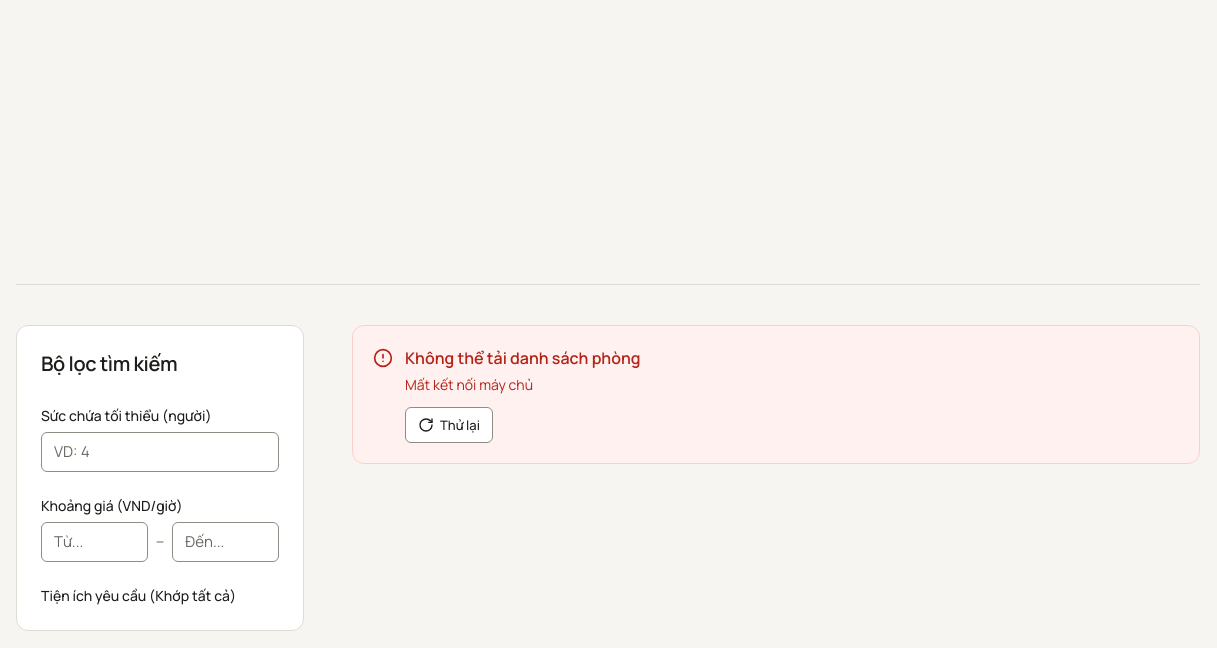
Test: UI Polish: Loading, Error, Empty States & Responsive UX (CWB-35) › Friendly Error States & Retry › RoomsPage displays friendly error with retry button on network failure
Expected: the text "Không thể tải danh sách phòng" is shown, [405, 347, 640, 369]
Click the button "Thử lại": [449, 425] box [405, 407, 493, 443]
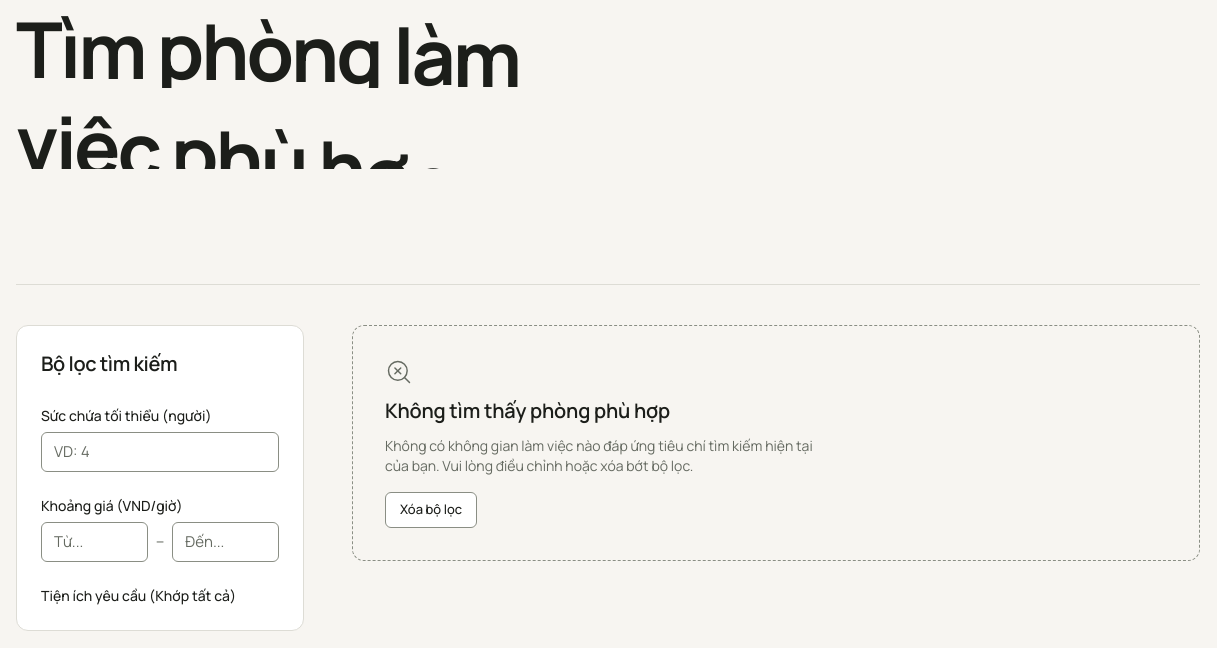
Now the heading "Không tìm thấy phòng phù hợp" is shown, box [385, 398, 670, 424]
